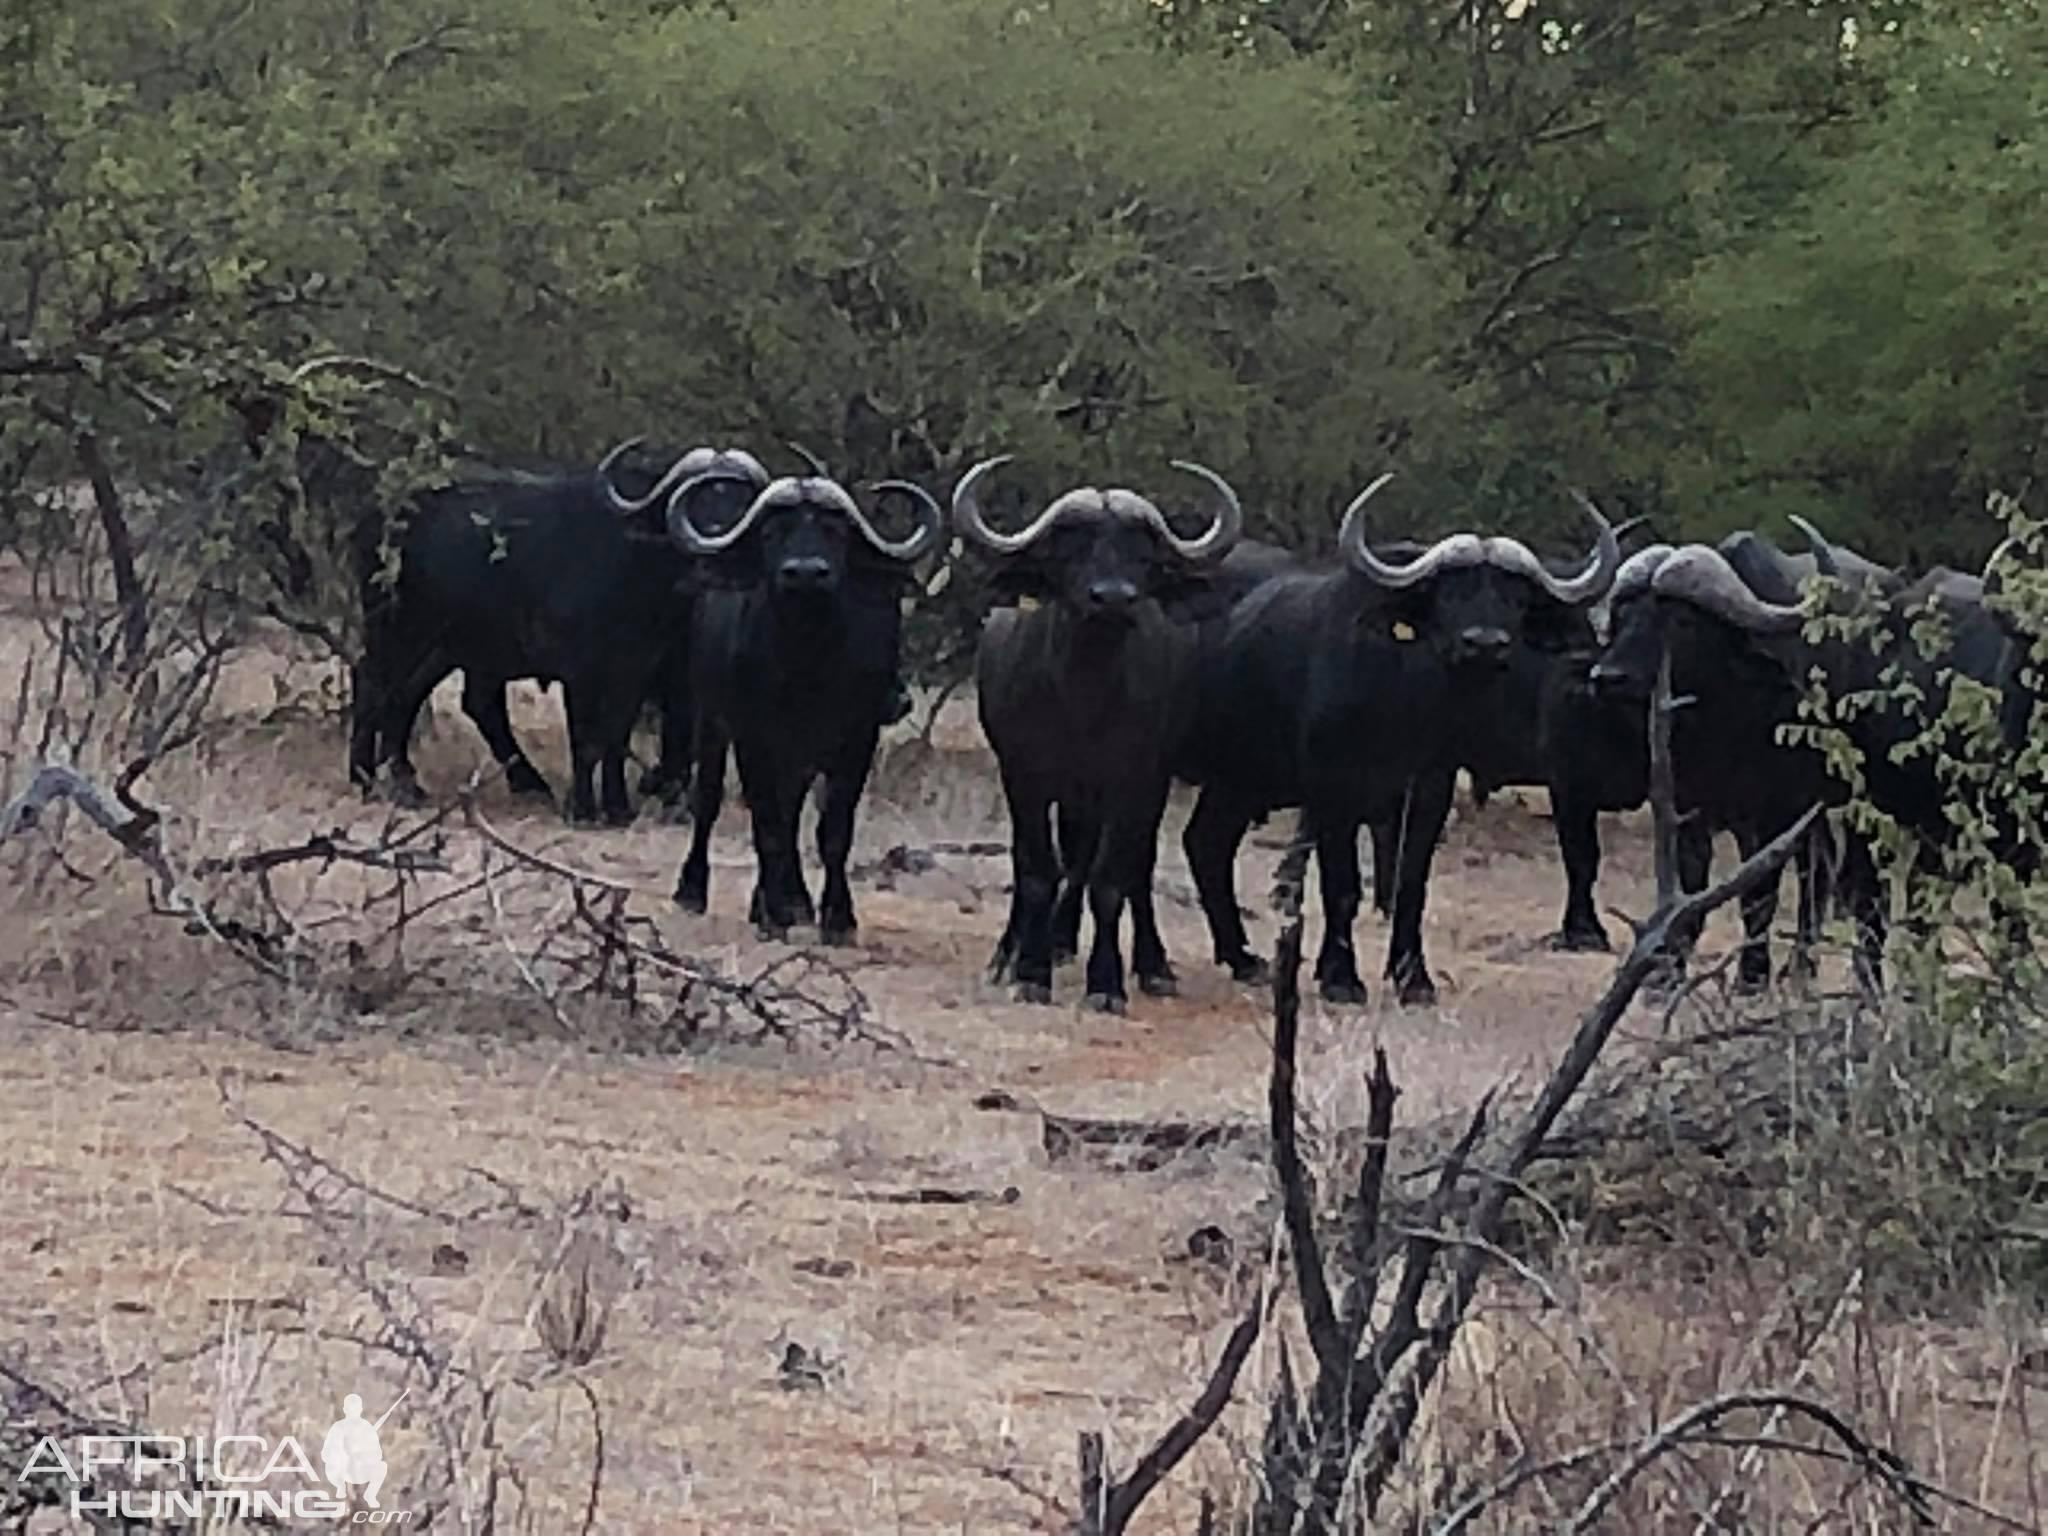Buffalo: (210, 226, 2048, 1070)
